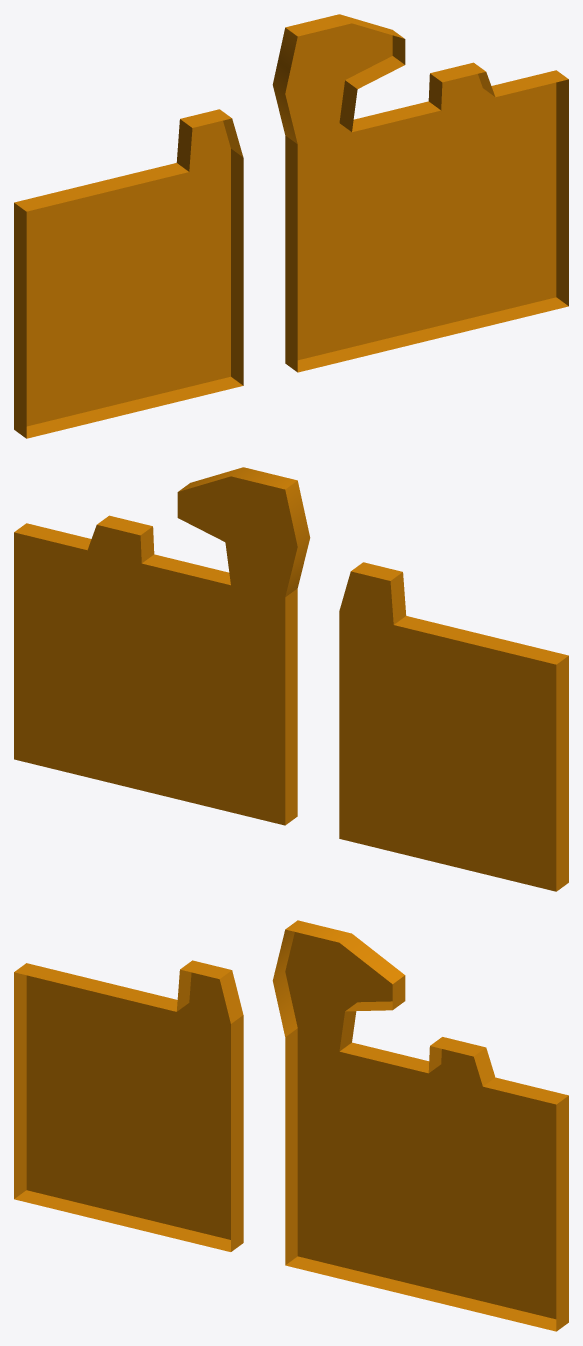
Rendered from candycane_valley_low_res.fbx.
3 renders of one model, top to bottom at view 1: azimuth 30°, elevation 25°; view 2: azimuth 150°, elevation 25°; view 3: azimuth 330°, elevation 25°, orthographic.
Visible parts, largest first — view 1: candycane_Valley_terrain; view 2: candycane_Valley_terrain; view 3: candycane_Valley_terrain.
Boxes of the visible parts, x1=… form: candycane_Valley_terrain: x1=14, y1=14, x2=568, y2=438; candycane_Valley_terrain: x1=14, y1=467, x2=568, y2=891; candycane_Valley_terrain: x1=14, y1=920, x2=568, y2=1331.
Bounding box in the file's own units: 25 × 14.8 × 1.
